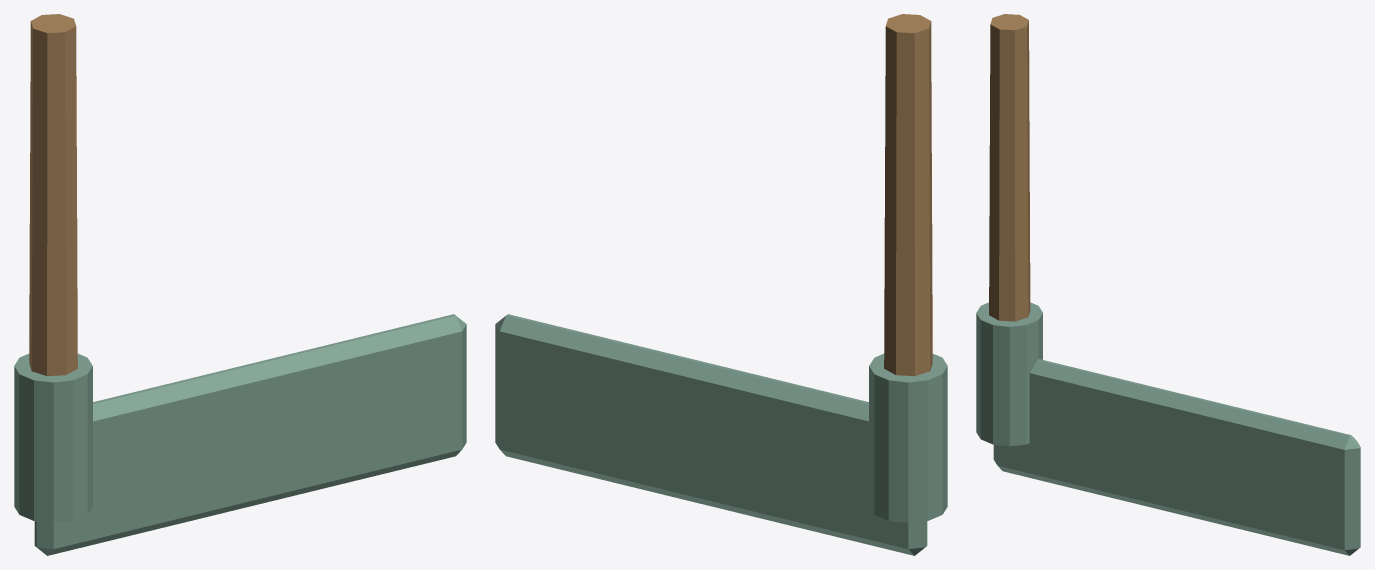
3 views of the same model, side by side, from view 1: azimuth 30°, elevation 25°; view 2: azimuth 150°, elevation 25°; view 3: azimuth 330°, elevation 25° (orthographic). The views are drawn at different scales.
Visible parts, largest first — view 1: WW-088 Handled bronze splitting froe batched; view 2: WW-088 Handled bronze splitting froe batched; view 3: WW-088 Handled bronze splitting froe batched.
Part boxes in pixels (x1=…): WW-088 Handled bronze splitting froe batched: x1=14, y1=14, x2=466, y2=555; WW-088 Handled bronze splitting froe batched: x1=495, y1=14, x2=947, y2=555; WW-088 Handled bronze splitting froe batched: x1=976, y1=14, x2=1360, y2=555.
Bounding box in the file's own units: 0.498 × 0.565 × 0.076.
